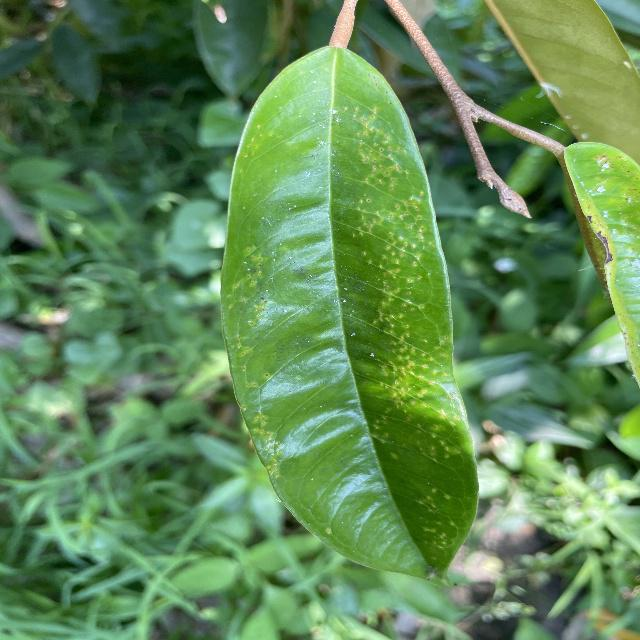Leaf Spot: (211, 37, 490, 600)
